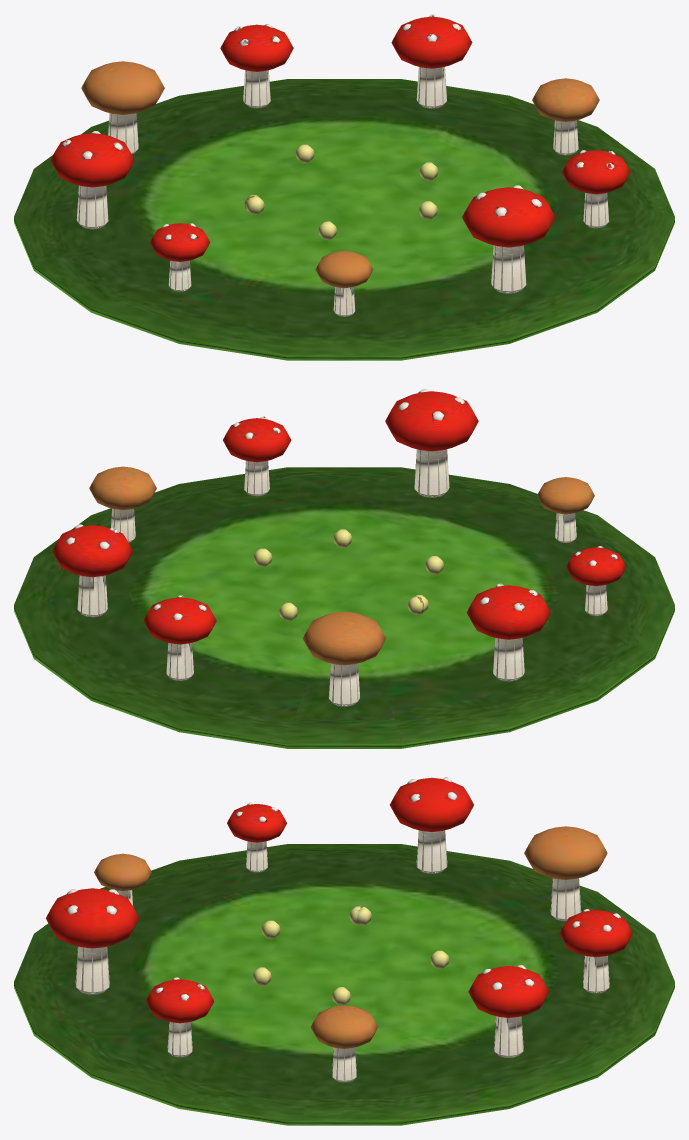
File: mushroom_ring.glb
3 renders of one model, top to bottom at view 1: azimuth 30°, elevation 25°; view 2: azimuth 150°, elevation 25°; view 3: azimuth 270°, elevation 25°, orthographic.
Visible parts, largest first — view 1: mushroom_ring; view 2: mushroom_ring; view 3: mushroom_ring.
Boxes of the visible parts, x1,y1,x2,y2 form: mushroom_ring: (14,14,674,360); mushroom_ring: (14,389,674,748); mushroom_ring: (14,777,674,1125).
Size of the model in its own units: 0.8147 by 0.1751 by 0.8272.
Materials: 1 (1 with a texture image).
